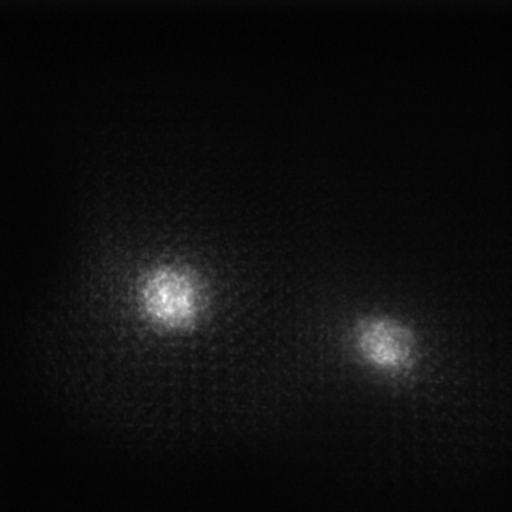lam3: (136, 265, 209, 330), (353, 319, 415, 371)
